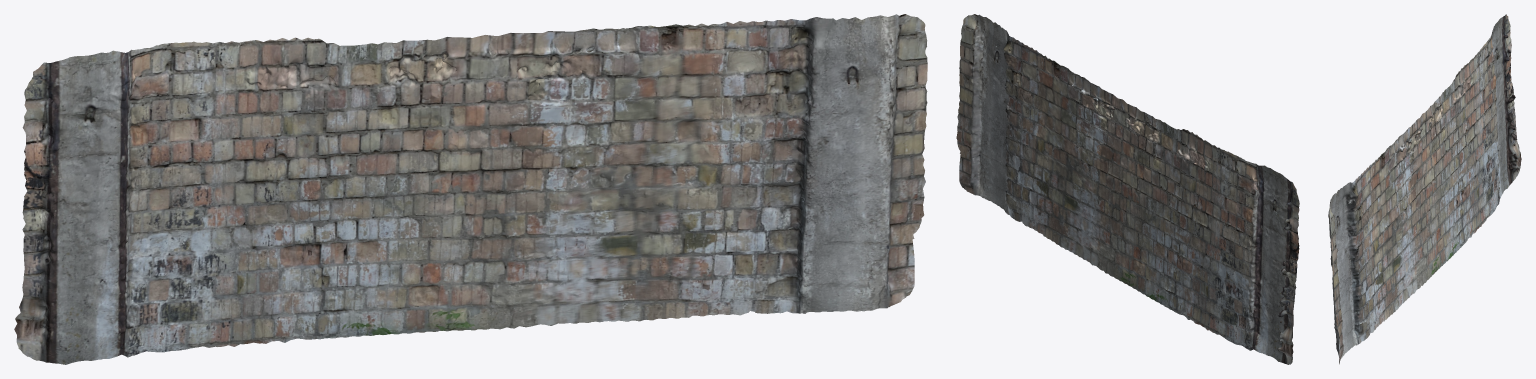
Rendered from wall_09.glb.
The picture shows the model from 3 angles, left to right: view 1: azimuth 30°, elevation 25°; view 2: azimuth 150°, elevation 25°; view 3: azimuth 270°, elevation 25°; orthographic projection. The views are drawn at different scales.
Visible parts, largest first — view 1: Object_2; view 2: Object_2; view 3: Object_2.
Part boxes in pixels (x1,y1,x2,y2): Object_2: [14, 14, 927, 364]; Object_2: [956, 14, 1299, 364]; Object_2: [1328, 14, 1521, 364].
Size of the model in its own units: 5.4 by 2.2 by 2.24.
Materials: 1 (1 with a texture image).
